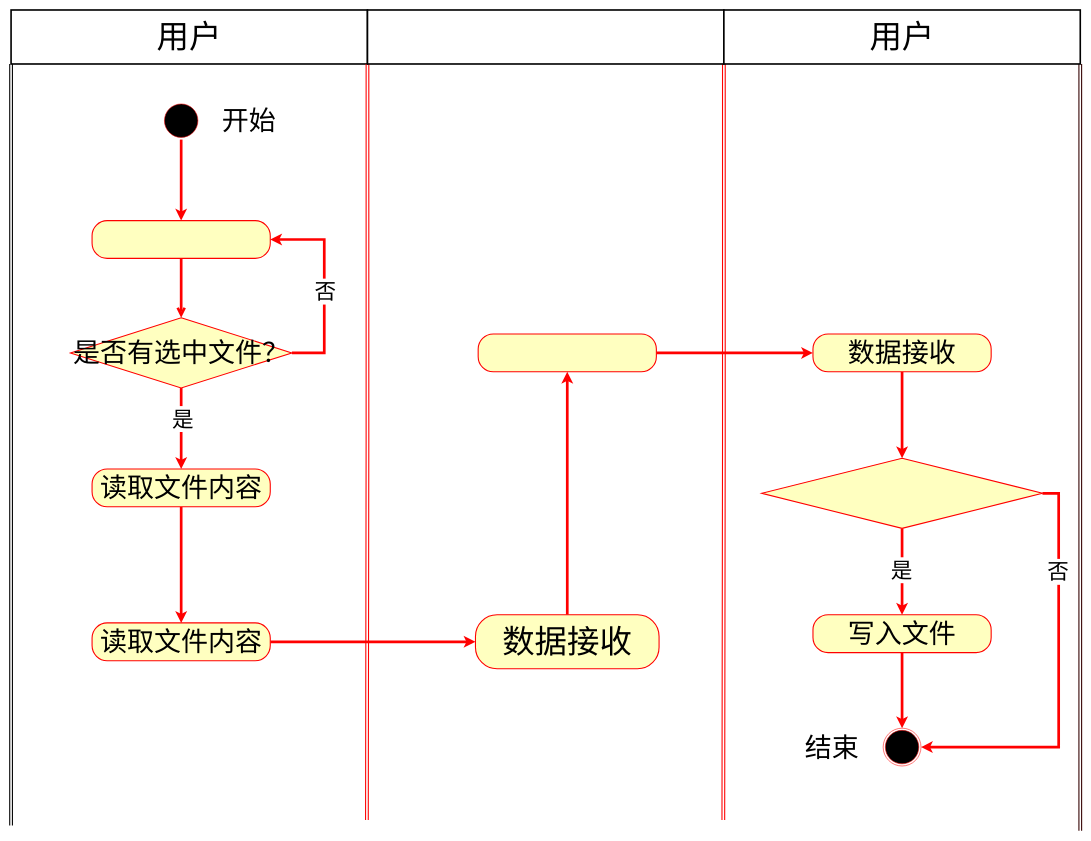
Image size: 1091x841. Some labels were removed from this diagram. The box of each missing label's shape, as (x1, y1, x2, y2) in pixels:
是否同意接收文件？: (761, 457, 1043, 529)
服务器: (366, 9, 724, 65)
转发: (477, 333, 657, 372)
选择文件: (91, 220, 271, 259)
